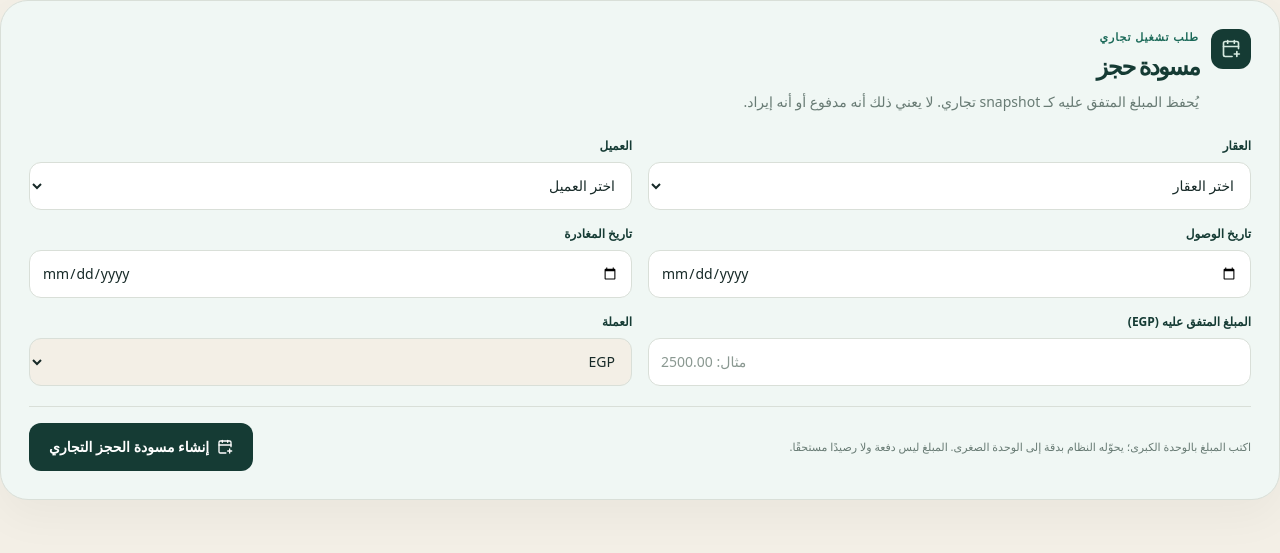
BookingDraftForm › submits a draft proposal with property, client, and half-open stay dates
Select "NILE-202 — شقة النيل" in the dropdown labelled "العقار" at {"x": 950, "y": 186}, box [648,162,1251,210]
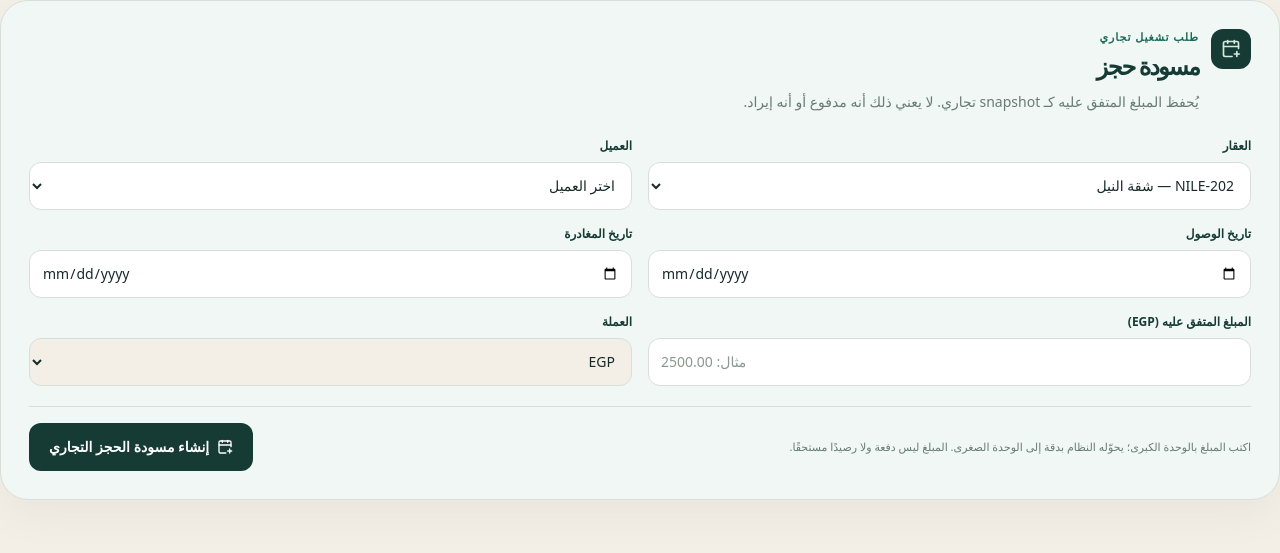
Select "عميل النيل" in the dropdown labelled "العميل" at {"x": 330, "y": 186}, box [29,162,632,210]
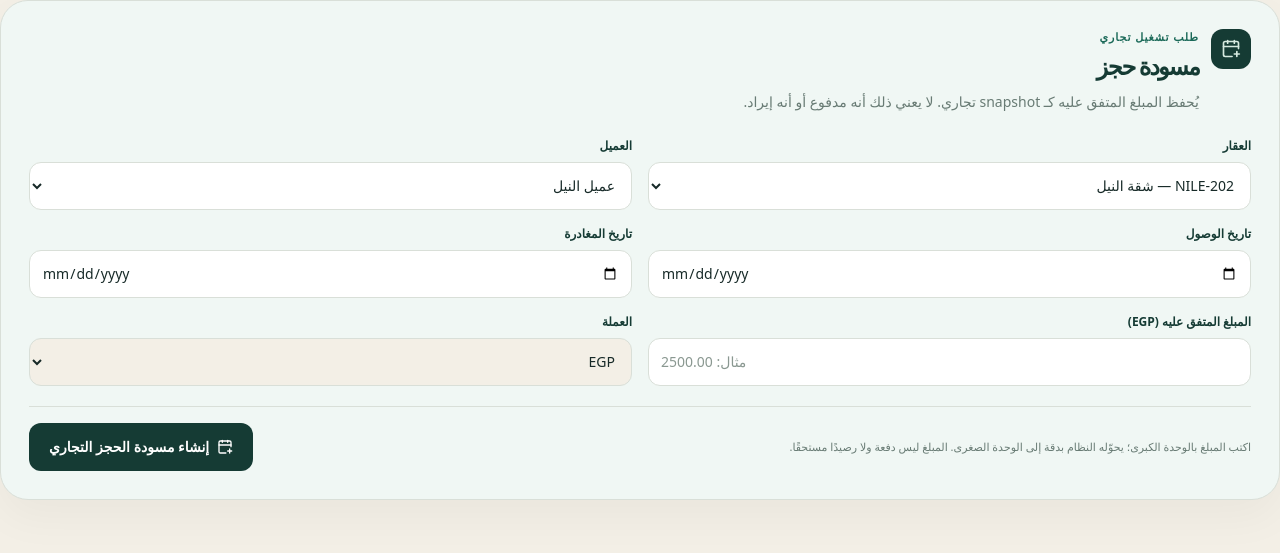
Type "2027-04-20" into the date field labelled "تاريخ الوصول" at {"x": 950, "y": 274}, box [648,250,1251,298]
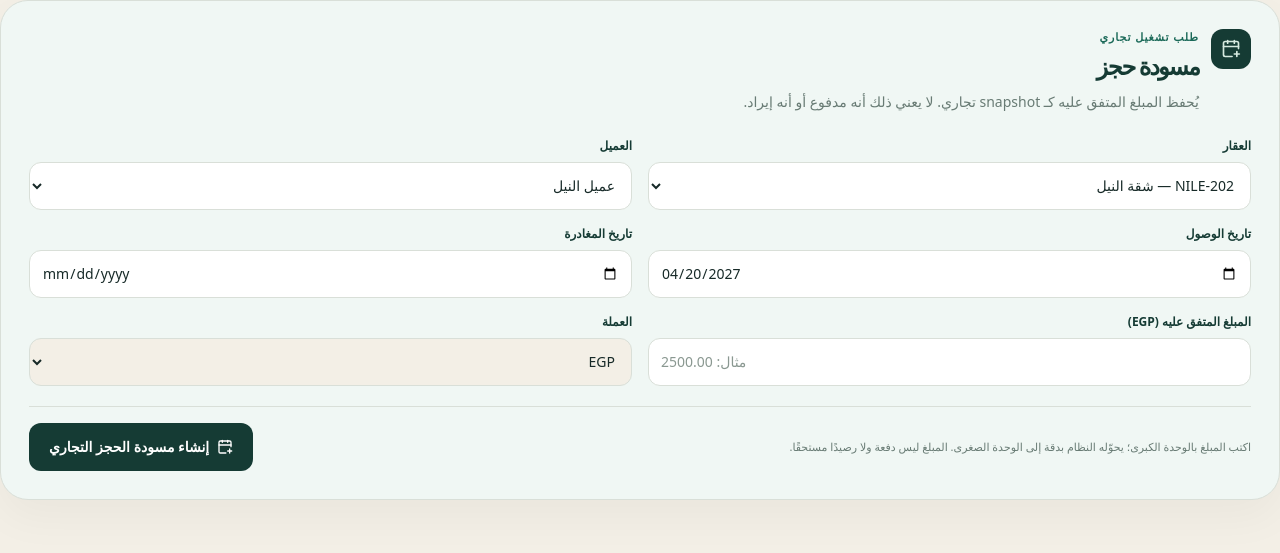
Type "2027-04-23" into the date field labelled "تاريخ المغادرة" at {"x": 330, "y": 274}, box [29,250,632,298]
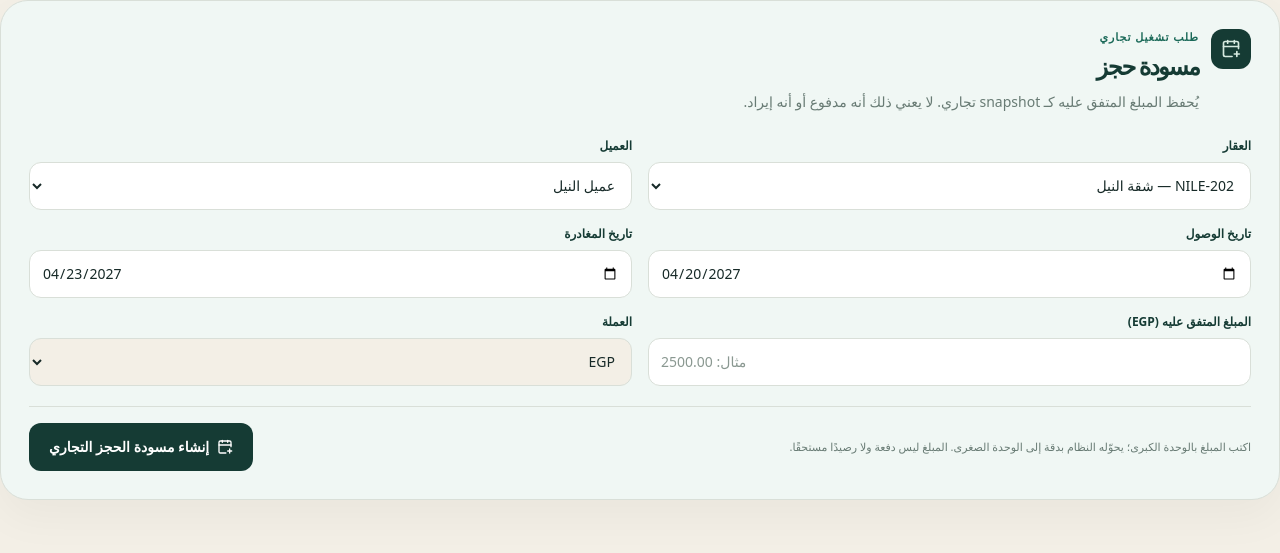
Type "2500.00" into the field labelled "المبلغ المتفق عليه (EGP)" at {"x": 950, "y": 362}, box [648,338,1251,386]
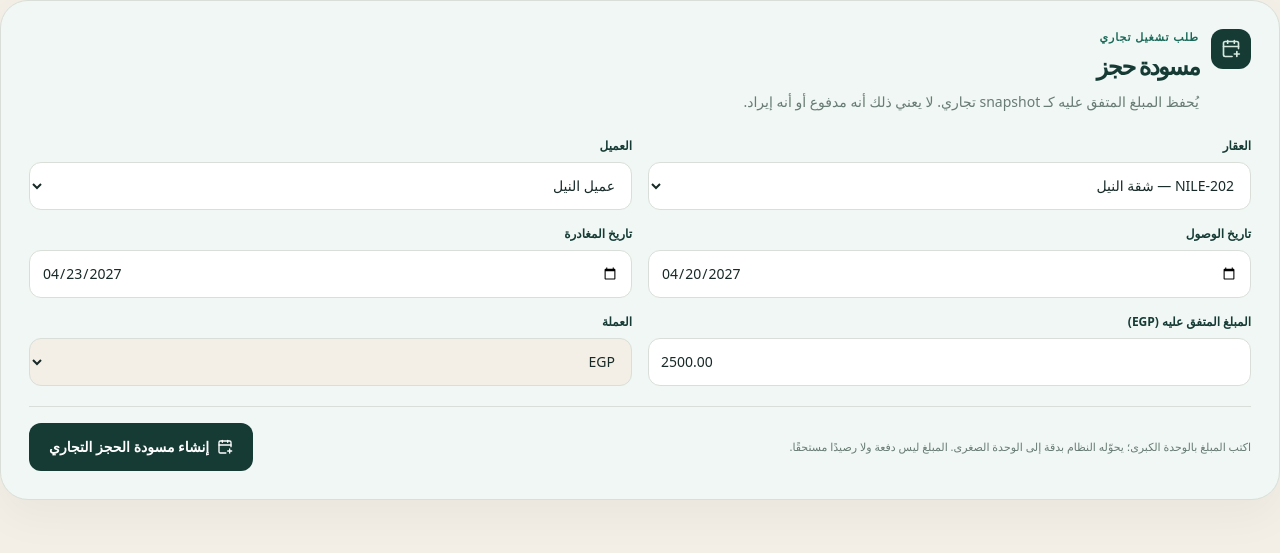
Click the button "إنشاء مسودة الحجز التجاري" at {"x": 141, "y": 446}, box [29,422,253,470]
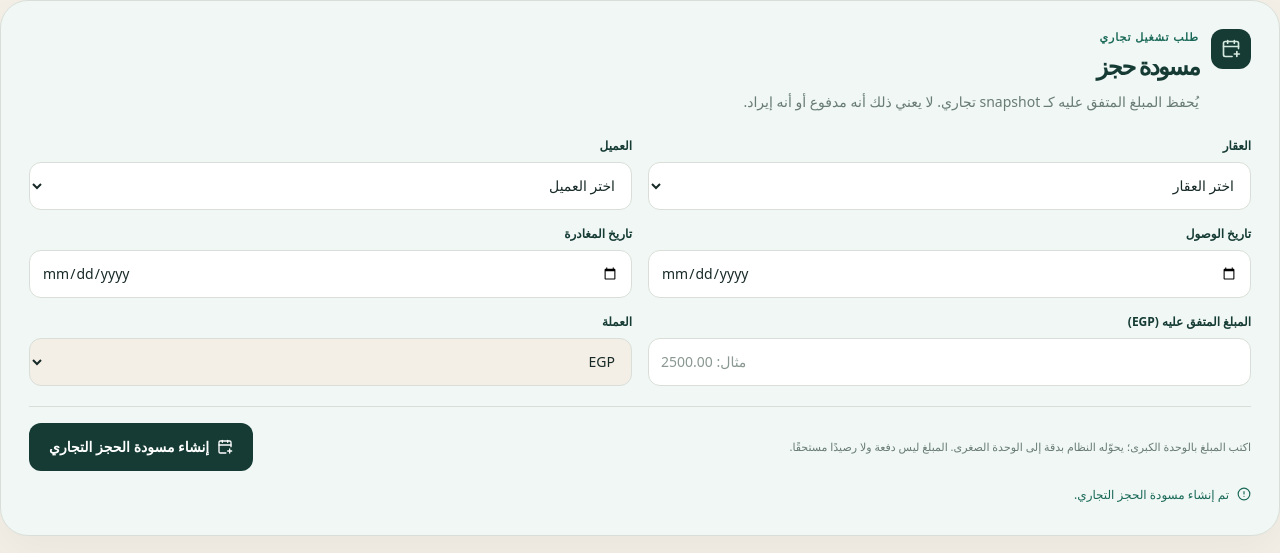
Now the text "تم إنشاء مسودة الحجز التجاري." is shown, box [1074,486,1251,502]
